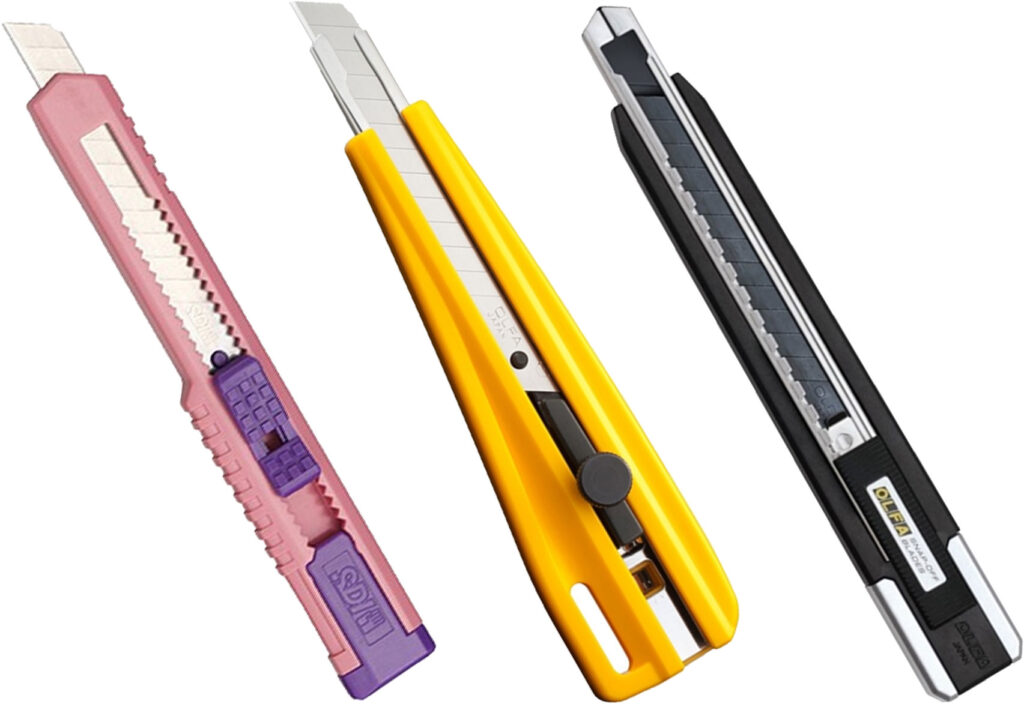cutter: (293, 3, 740, 702), (581, 6, 1022, 701), (1, 23, 437, 701)
